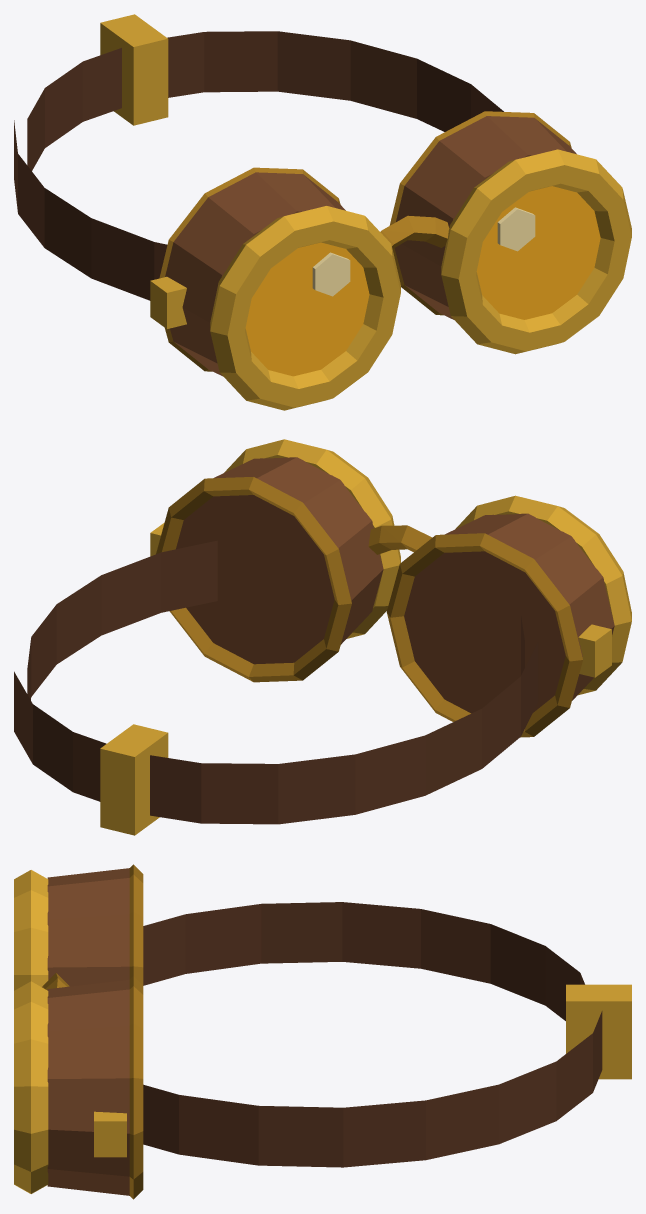
File: flight-goggles.glb
3 renders of one model, top to bottom at view 1: azimuth 30°, elevation 25°; view 2: azimuth 150°, elevation 25°; view 3: azimuth 270°, elevation 25°, orthographic.
Visible parts, largest first — view 1: flight-goggles; view 2: flight-goggles; view 3: flight-goggles.
Boxes of the visible parts, x1,y1,x2,y2 form: flight-goggles: (14, 14, 631, 410); flight-goggles: (14, 439, 631, 835); flight-goggles: (14, 864, 631, 1199).
Bounding box in the file's own units: 0.154 × 0.068 × 0.1872.
